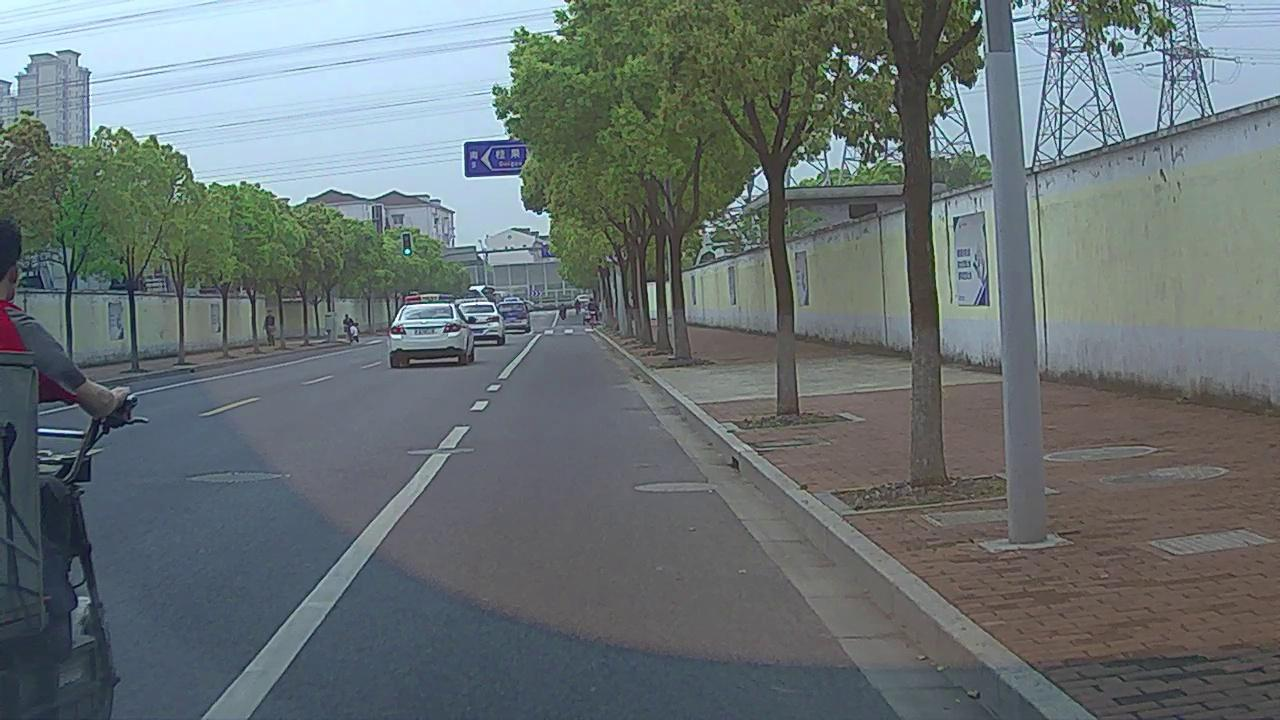traffic_light: (401, 235, 410, 255)
